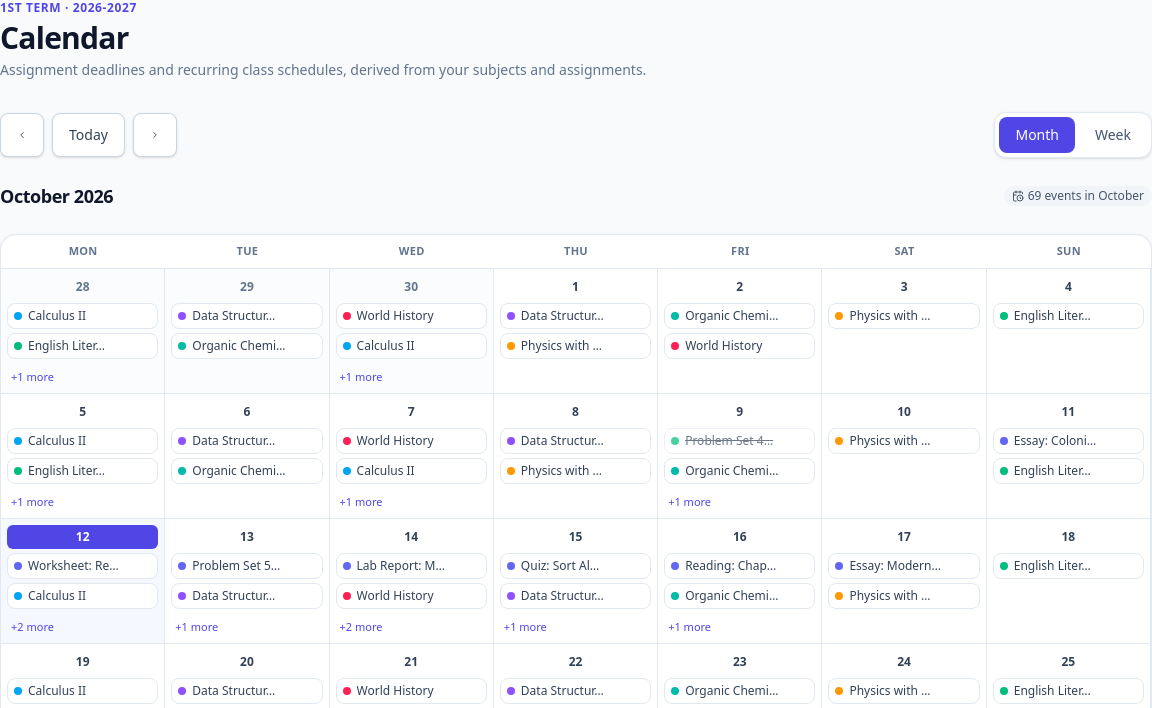
calendar event details › lists the events for a selected day
The width and height of the screenshot is (1152, 708).
Click the button named "View events for": (83, 286) [7, 274, 158, 298]
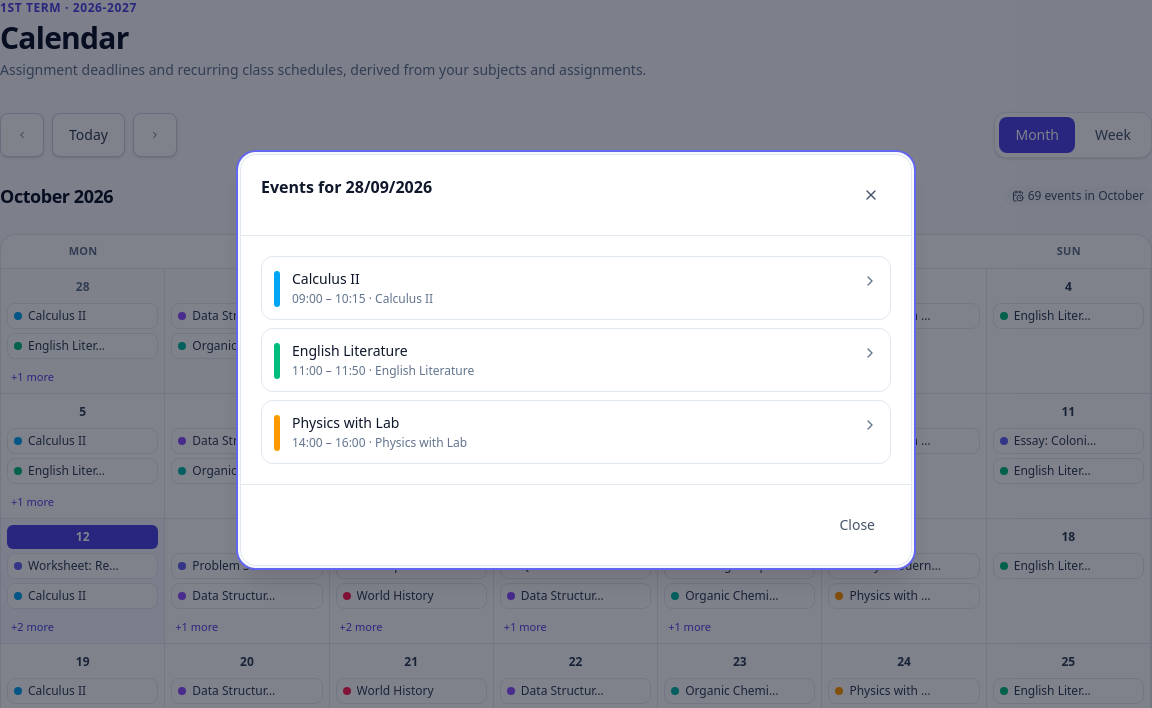
Check: the dialog is shown, box [240, 154, 912, 566]
